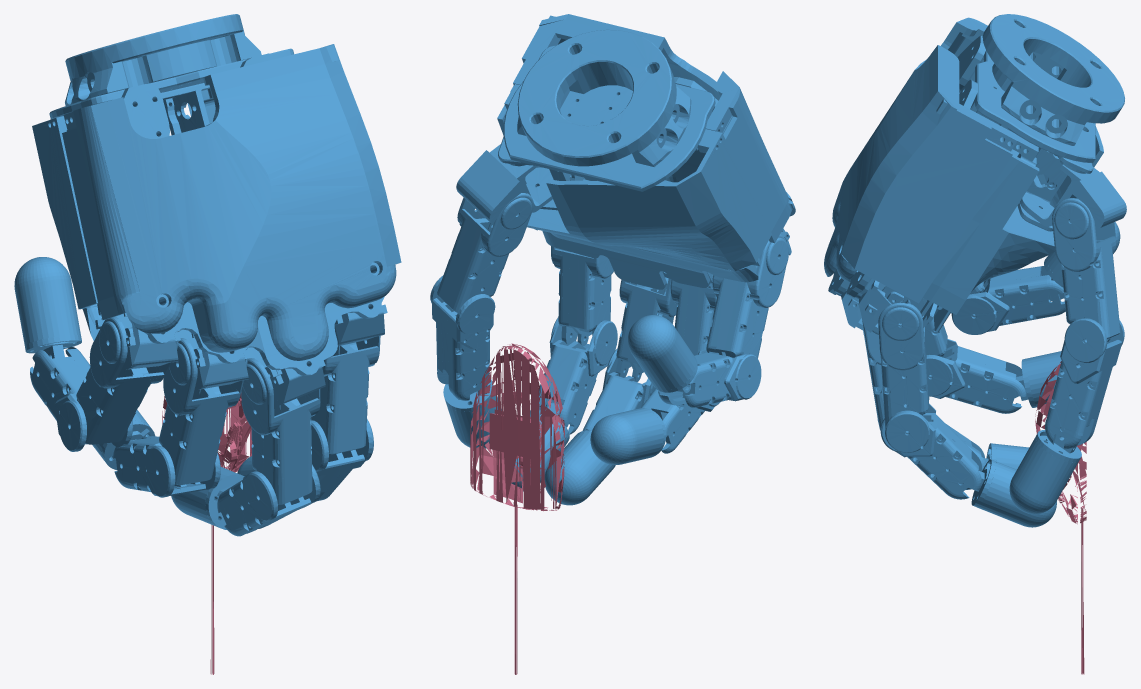
The picture shows the model from 3 angles, left to right: view 1: azimuth 30°, elevation 25°; view 2: azimuth 150°, elevation 25°; view 3: azimuth 270°, elevation 25°; orthographic projection. The views are drawn at different scales.
Visible parts, largest first — view 1: 0; view 2: 0; view 3: 0.
Boxes of the visible parts, left/top/right/bottom form: 0: left=14, top=14, right=401, bottom=674; 0: left=430, top=14, right=795, bottom=674; 0: left=824, top=14, right=1126, bottom=674.
Bounding box in the file's own units: 0.1208 × 0.272 × 0.1212.
